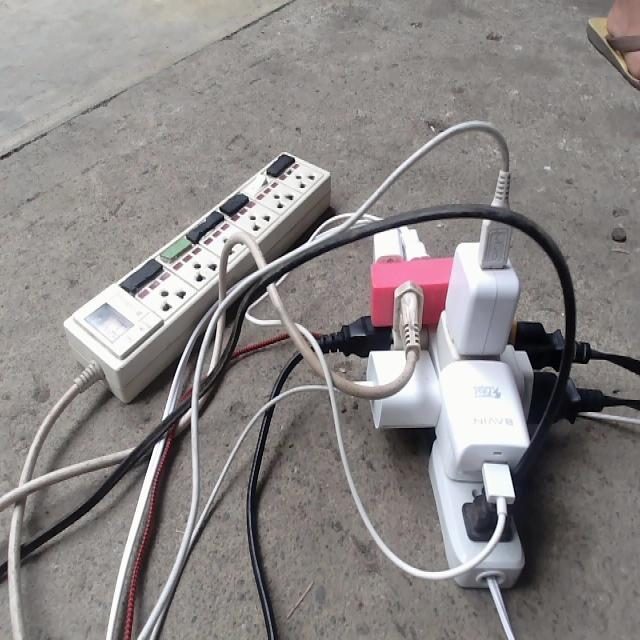-: (330, 162, 598, 590)
